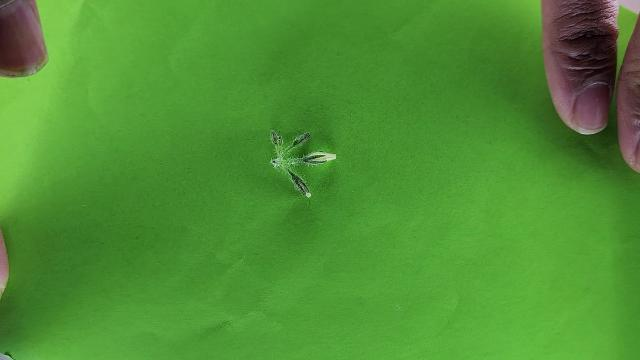Flower Bud: (287, 168, 311, 198), (302, 151, 337, 164)
